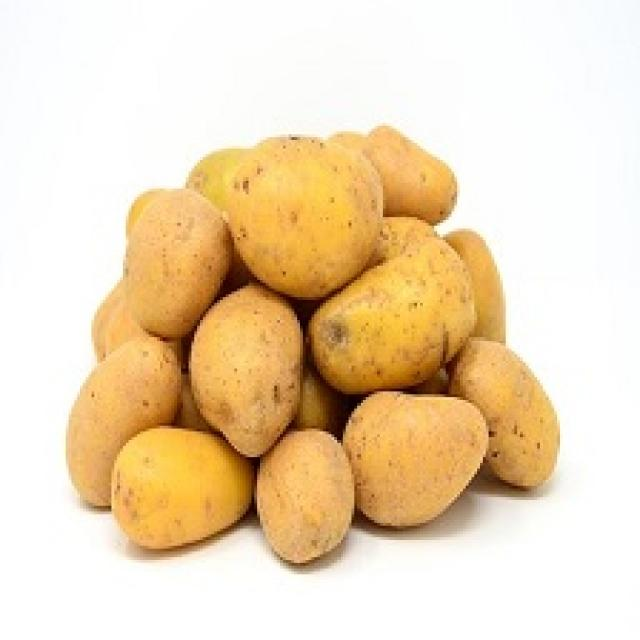healthy: (56, 115, 569, 579)
